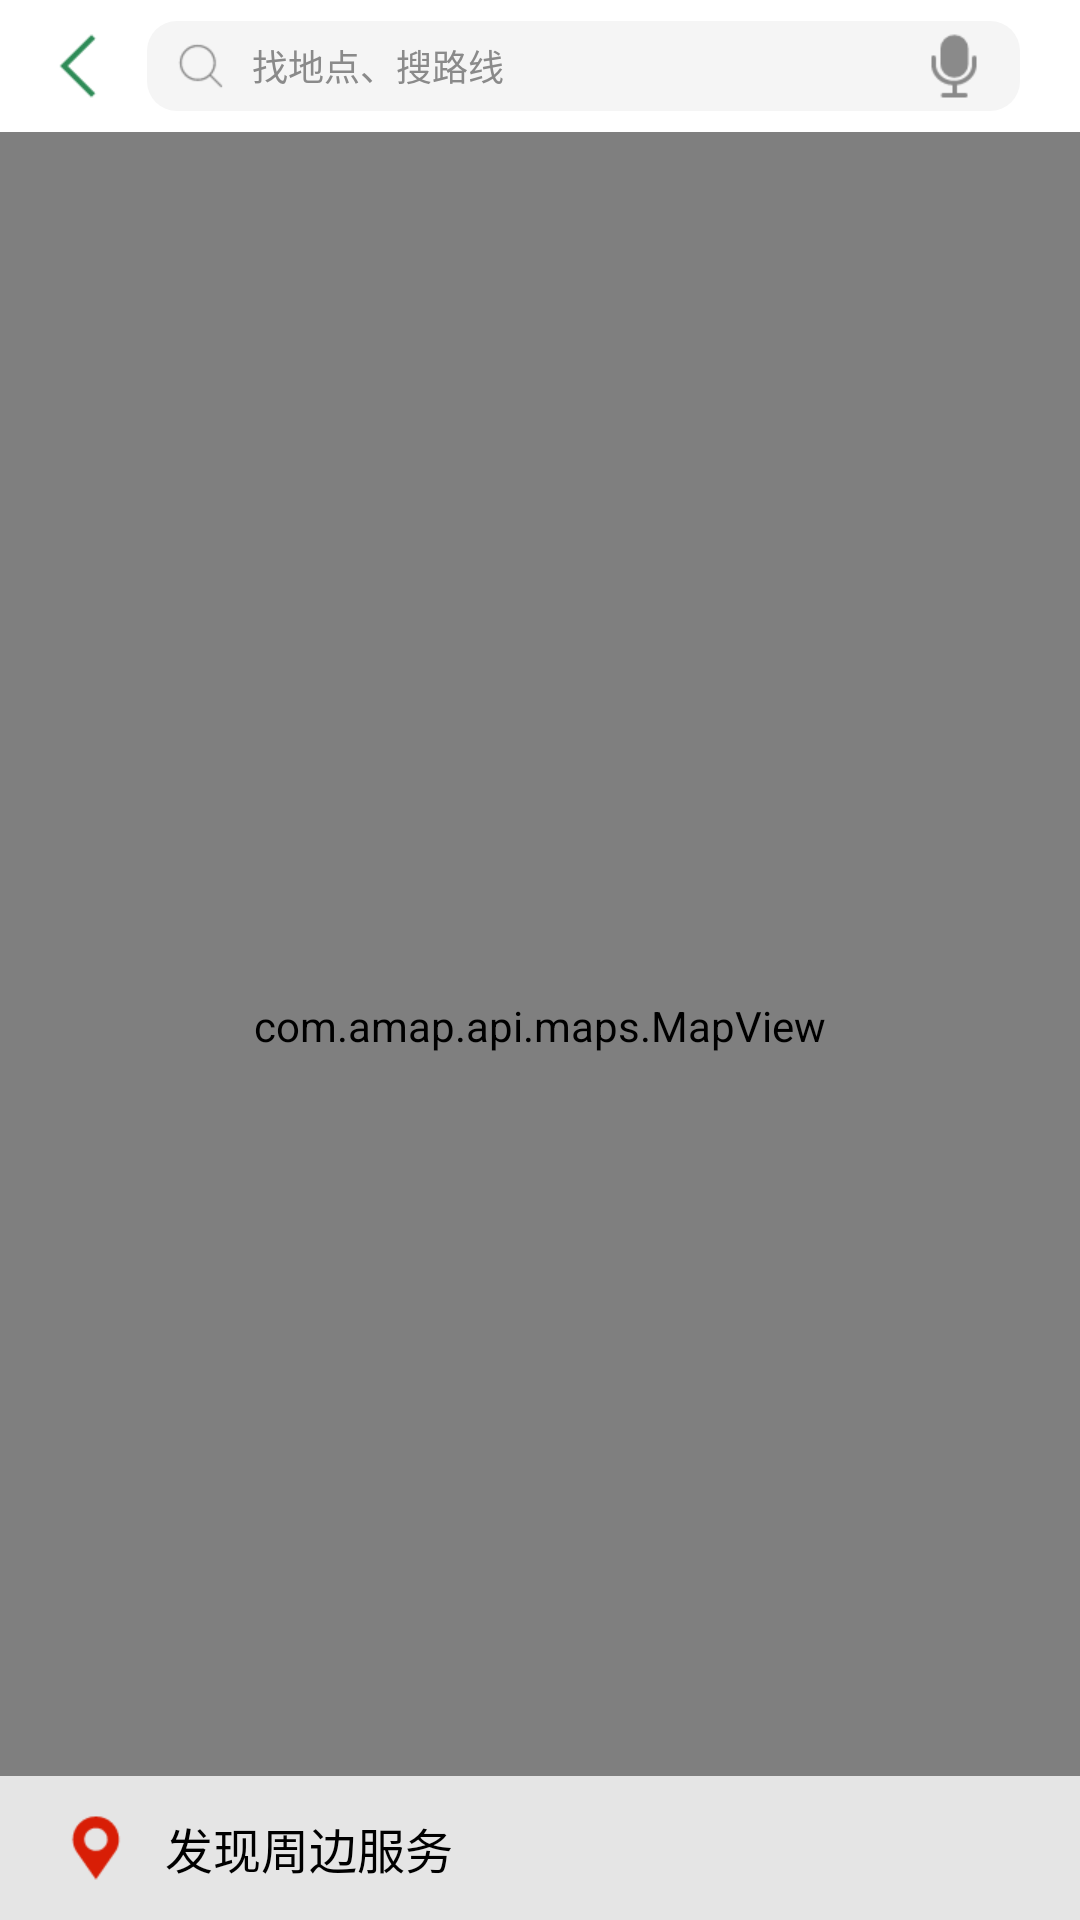

Icon bounding boxes for this 1080px x 1920px phone screenshot, format bbox=(x1, y1, x2, y2):
back: bbox=(60, 34, 96, 98)
search: bbox=(179, 45, 222, 87)
search location: bbox=(72, 1816, 120, 1880)
speak: bbox=(931, 34, 977, 98)
